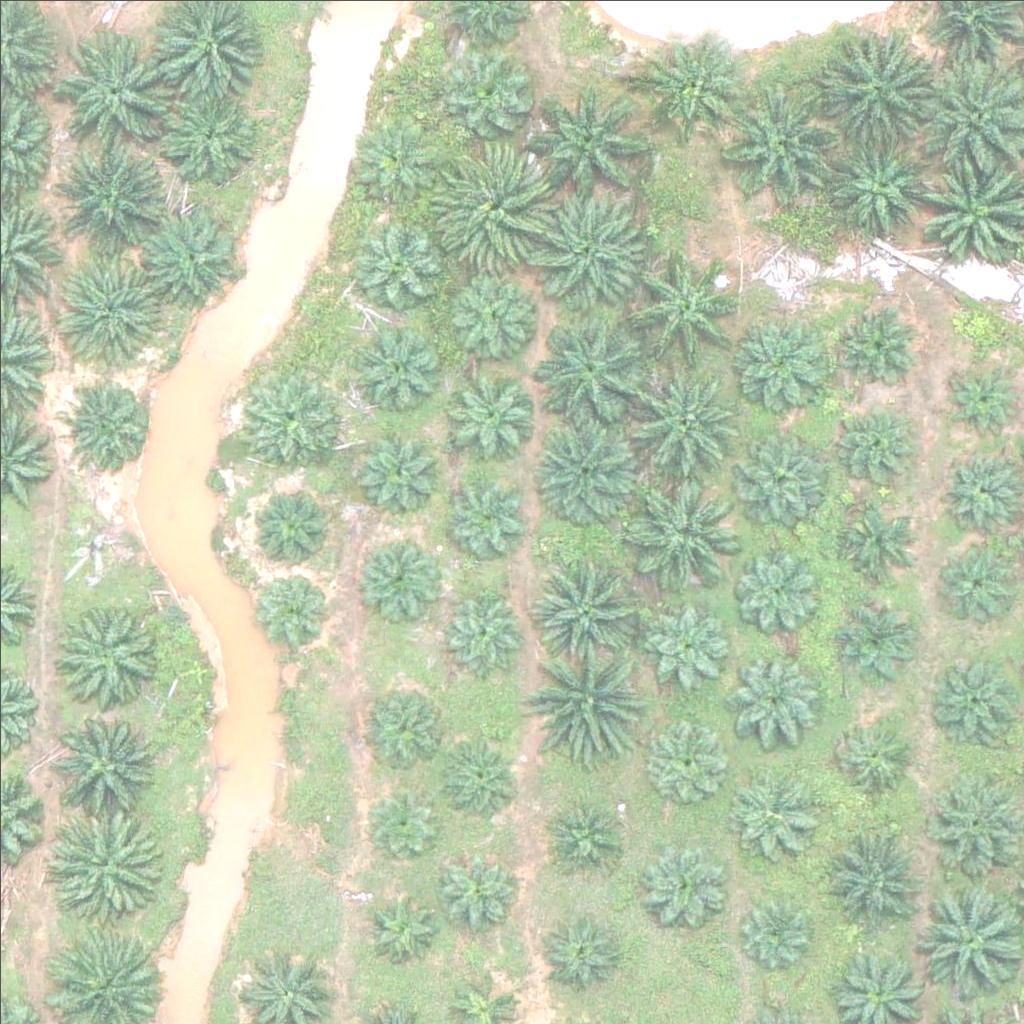Kelapa_Sawit: (824, 30, 937, 144), (52, 252, 165, 366), (535, 415, 648, 529), (50, 811, 163, 924), (436, 152, 549, 265), (528, 639, 641, 752), (531, 318, 644, 431), (823, 814, 936, 927), (54, 144, 166, 258), (44, 701, 156, 815), (525, 190, 637, 304), (62, 34, 174, 147), (536, 89, 648, 202), (725, 89, 837, 202), (531, 546, 643, 659), (624, 252, 736, 365), (624, 361, 736, 474), (628, 473, 740, 586), (159, 84, 259, 185), (53, 605, 153, 706), (240, 372, 340, 473), (348, 311, 448, 412), (731, 418, 831, 519), (830, 137, 930, 238), (140, 204, 240, 305), (641, 29, 741, 129), (438, 266, 538, 366), (434, 362, 534, 462), (732, 313, 832, 413), (433, 847, 521, 936), (446, 55, 534, 143), (535, 904, 623, 992), (547, 788, 635, 876), (363, 681, 451, 769), (349, 120, 437, 208), (440, 471, 528, 559), (731, 645, 819, 733), (731, 544, 819, 632), (931, 659, 1019, 747), (832, 296, 920, 384), (830, 713, 918, 801), (641, 712, 729, 800), (65, 384, 152, 472), (435, 733, 522, 821), (442, 585, 529, 673), (353, 528, 440, 616), (246, 482, 333, 570), (352, 212, 439, 300), (357, 433, 444, 521), (934, 534, 1021, 622), (933, 450, 1020, 538), (835, 406, 922, 494), (827, 503, 914, 591), (835, 600, 922, 688), (640, 841, 727, 929), (643, 599, 730, 687), (729, 768, 816, 856), (737, 890, 812, 966), (364, 780, 439, 856), (944, 365, 1019, 441), (255, 567, 330, 643), (361, 886, 436, 961)
